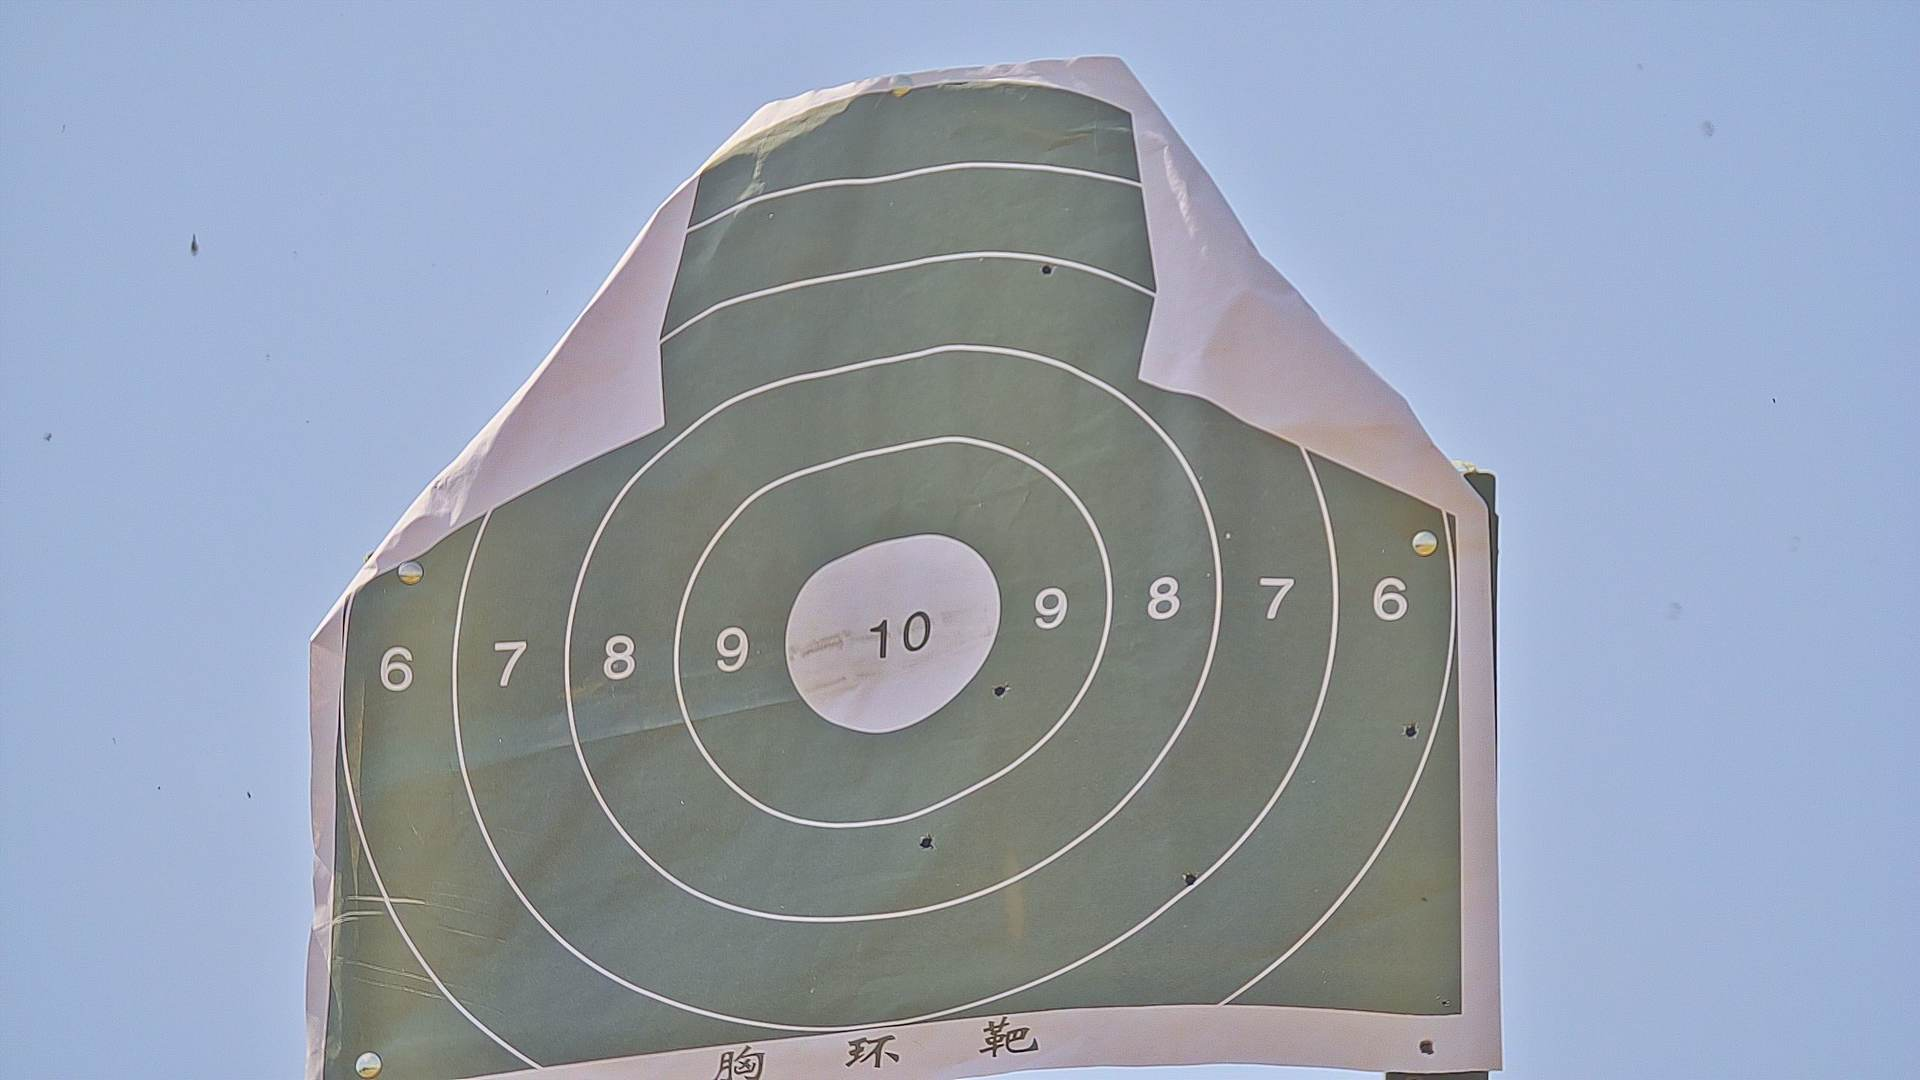hole: (1400, 717, 1420, 741), (916, 829, 935, 852), (1180, 868, 1203, 885), (990, 683, 1010, 702), (1040, 258, 1058, 280)
kernel: (895, 632, 899, 644)
target: (330, 86, 1465, 1076)
ten: (785, 531, 1004, 740)
